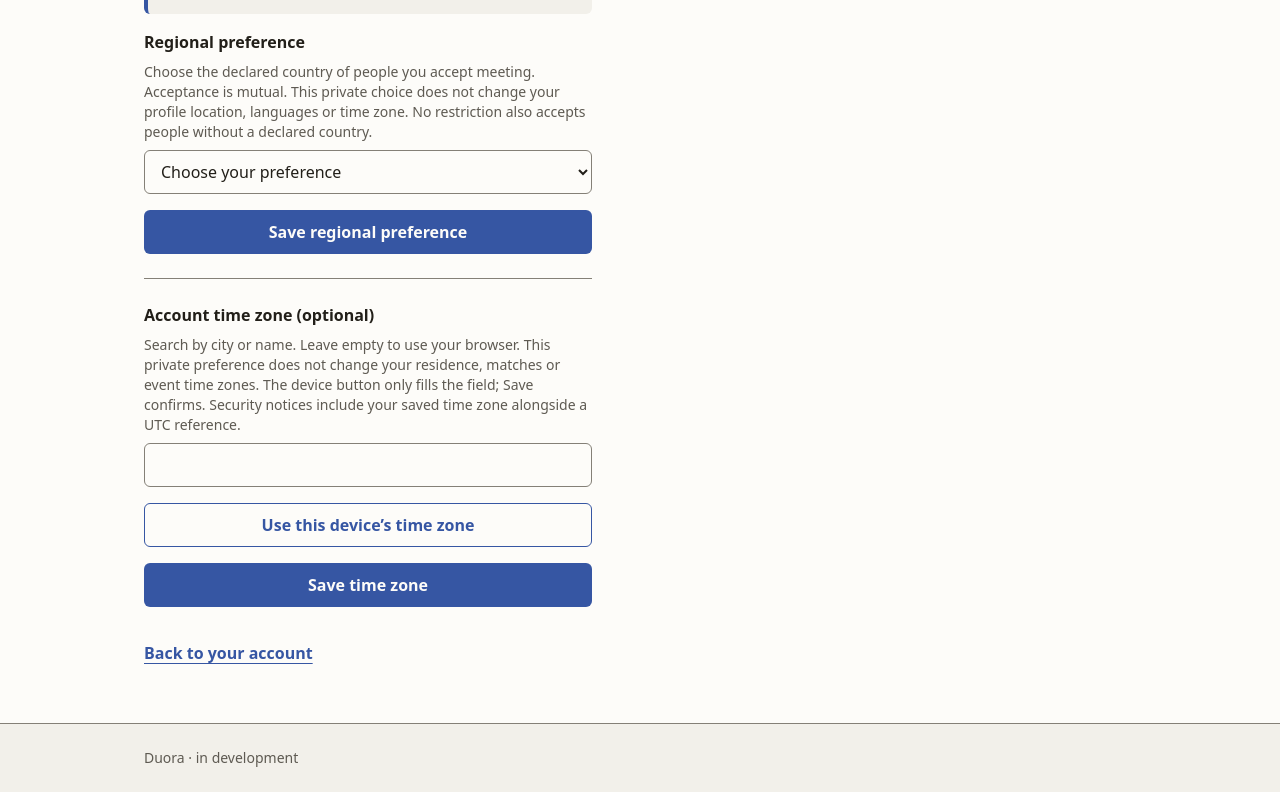
Scenario: explicit account zone / en-US › accepts a device alias and persists the server-supported IANA identifier
The width and height of the screenshot is (1280, 792).
(page scrolled)
Type "Asia/Calcutta" into the field labelled "Account time zone (optional)". click: (368, 465)
box: x1=144 y1=443 x2=592 y2=487
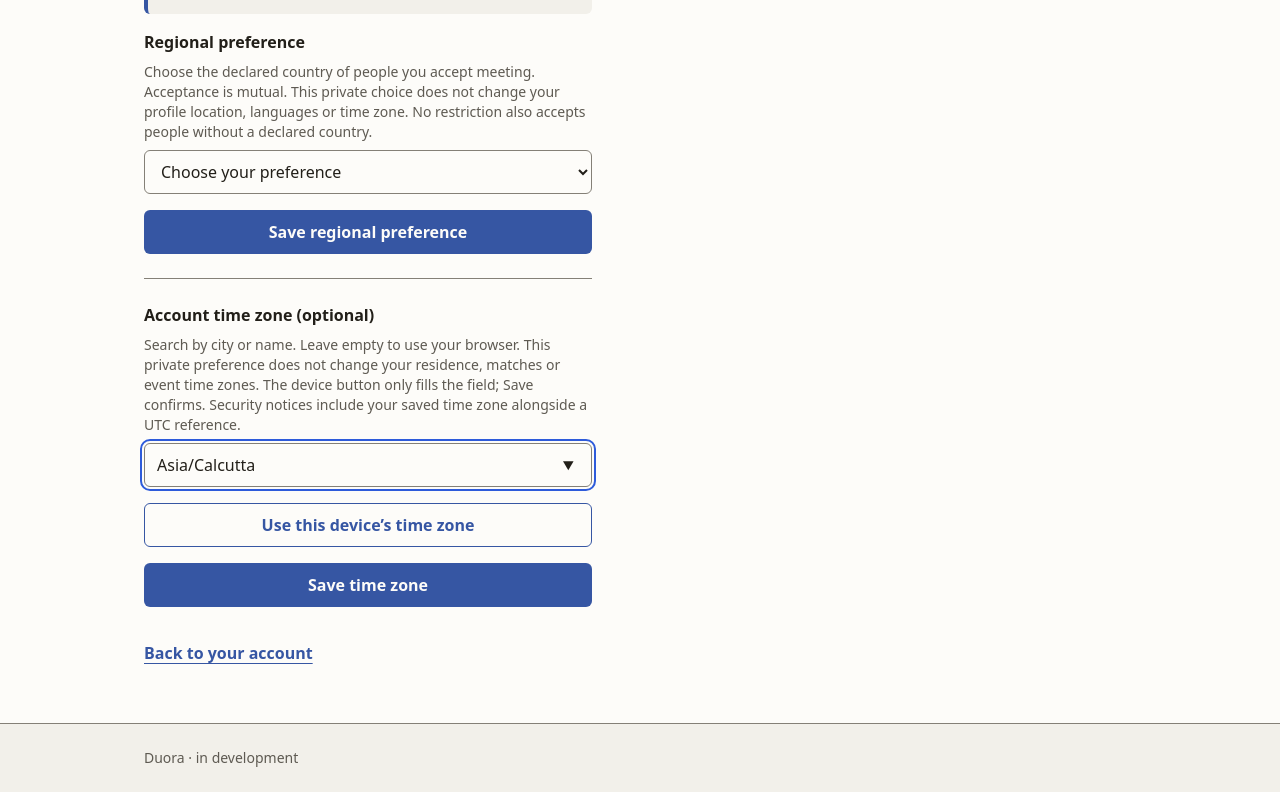
Click the button "Save time zone". click: (368, 585)
box: x1=144 y1=563 x2=592 y2=607
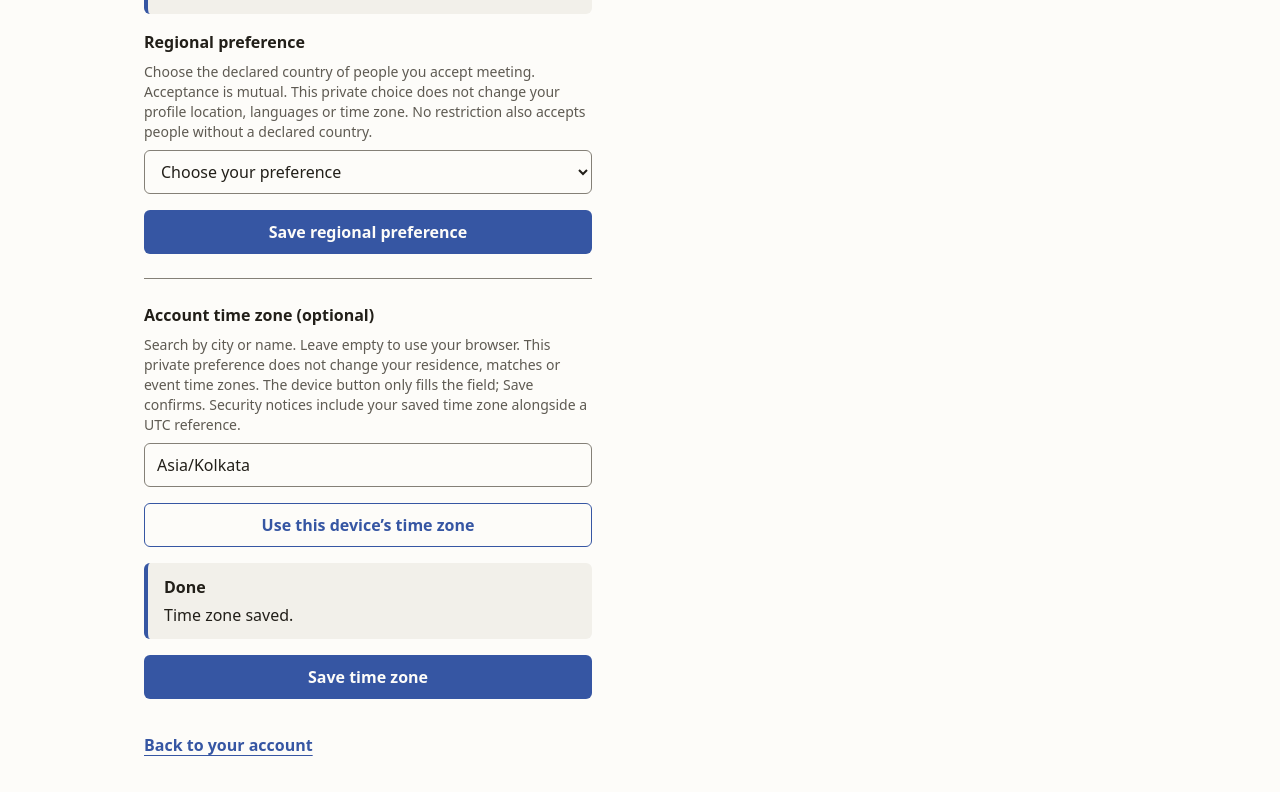
Expected: the text "Time zone saved." is shown, x1=164 y1=604 x2=293 y2=626
